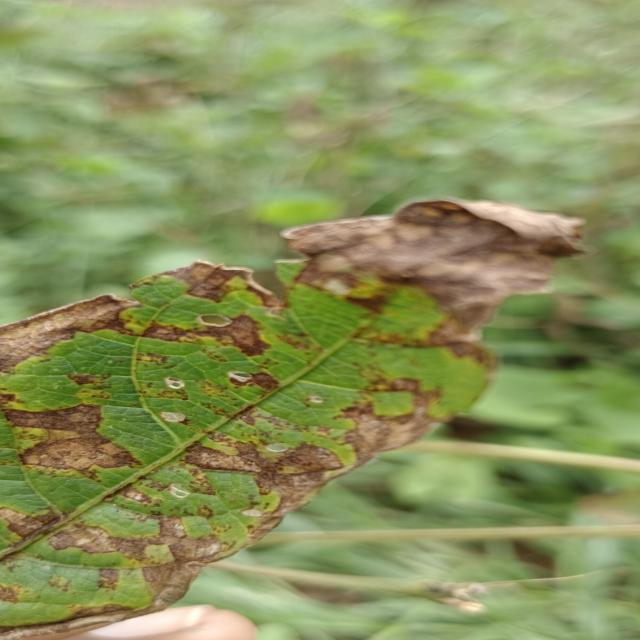Black gram_leaf spot: (0, 187, 601, 640)
